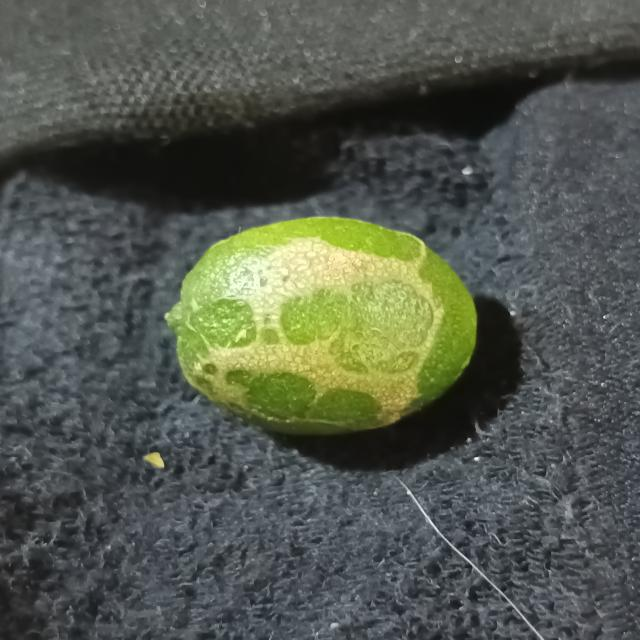thrips: (169, 215, 484, 438)
